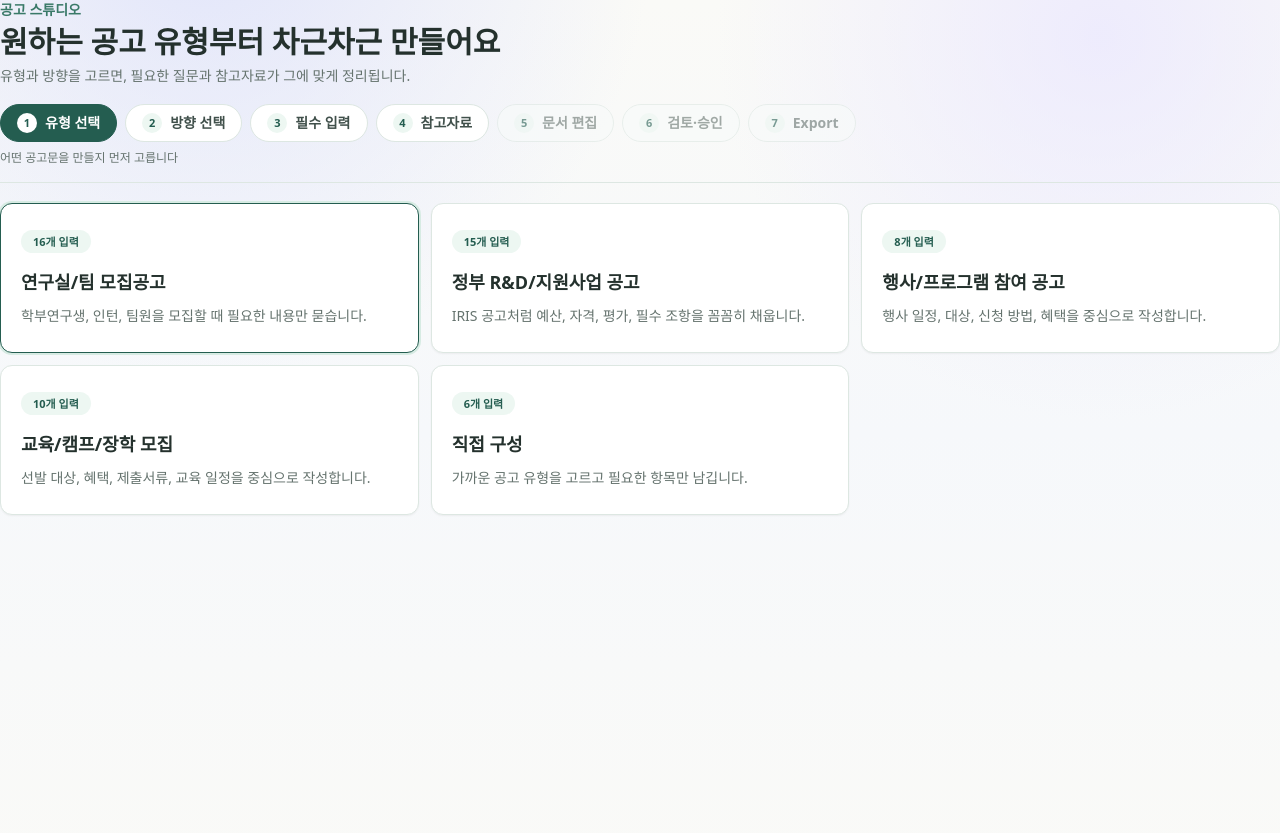
Scenario: AgencyStudio › shows lab recruitment fields and hides support-program-only fields
Step 1. Click the button with test id "studio-recipe-lab_recruitment" → point(56, 242), box [0,203,419,353]
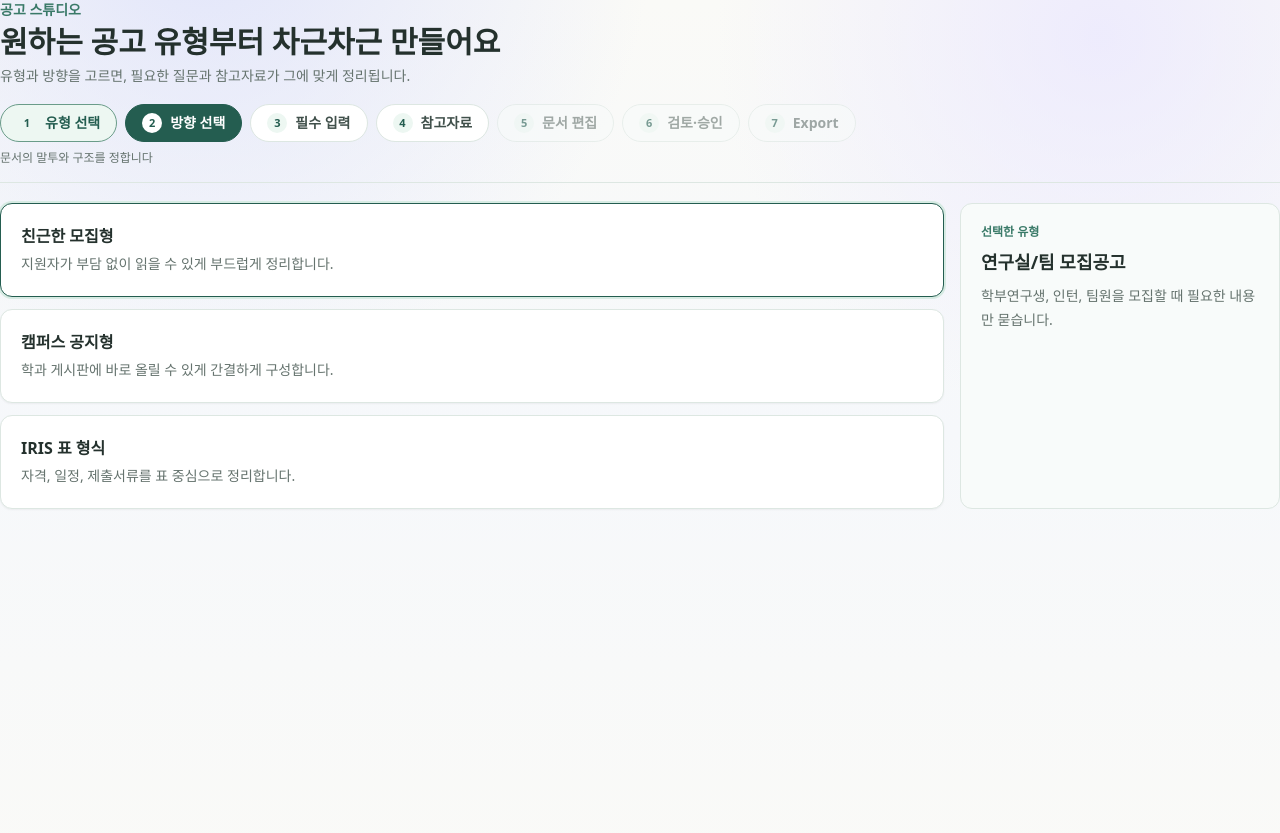
Step 2. Click the button with test id "studio-direction-friendly_recruitment" → point(67, 236), box [0,203,944,297]
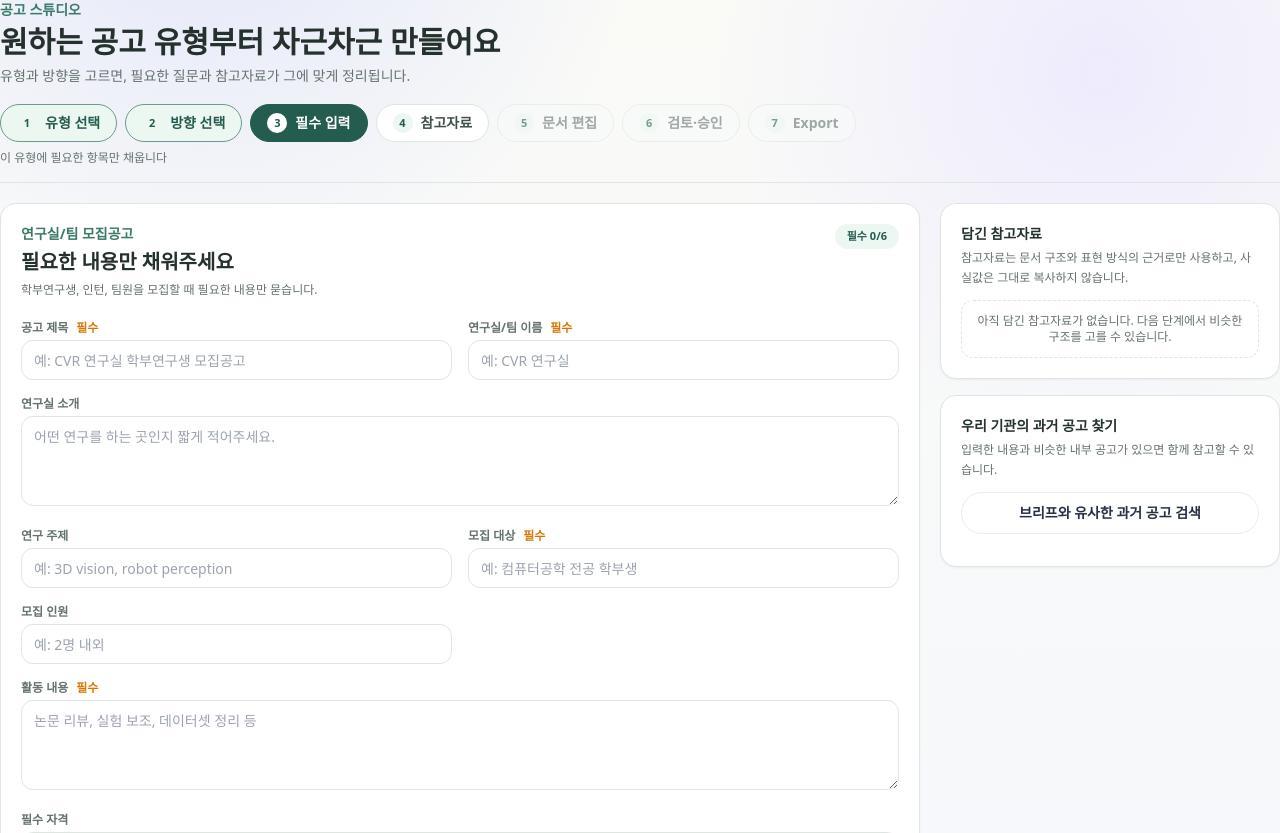
Check: the field with test id "brief-field-lab_name" is shown, box [468,340,899,380]
Check: the field with test id "brief-field-target_applicants" is shown, box [468,548,899,588]
